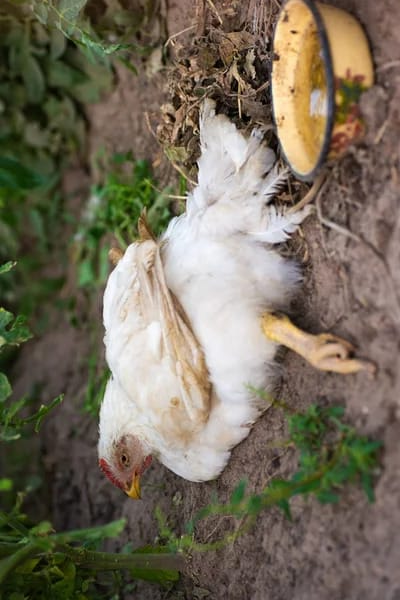Unhealthy: (76, 81, 381, 533)
